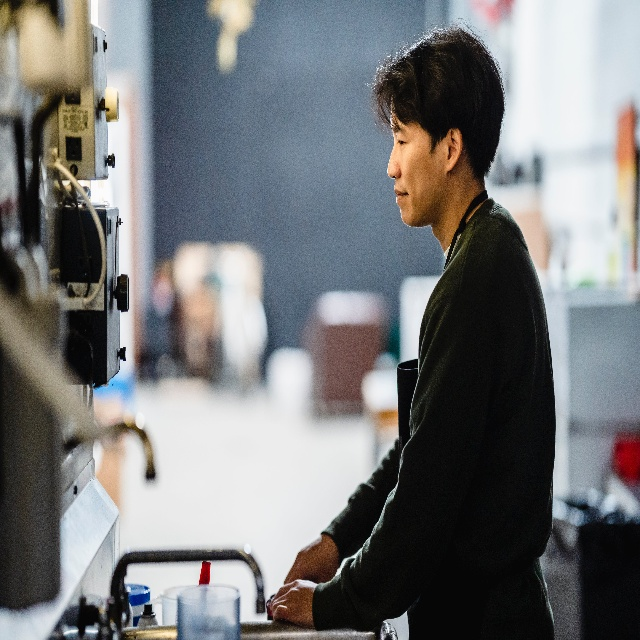Sin_guantes: (284, 535, 338, 583), (269, 582, 315, 626)
